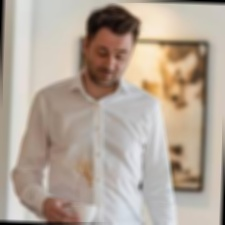coffee: (74, 159, 94, 188)
